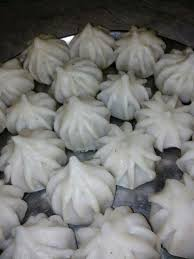modak: (101, 118, 166, 192), (46, 161, 124, 220), (2, 129, 71, 187), (138, 88, 194, 149), (98, 71, 156, 129), (56, 97, 119, 150), (12, 213, 70, 259), (53, 60, 104, 101), (27, 35, 72, 80), (11, 92, 60, 133)
